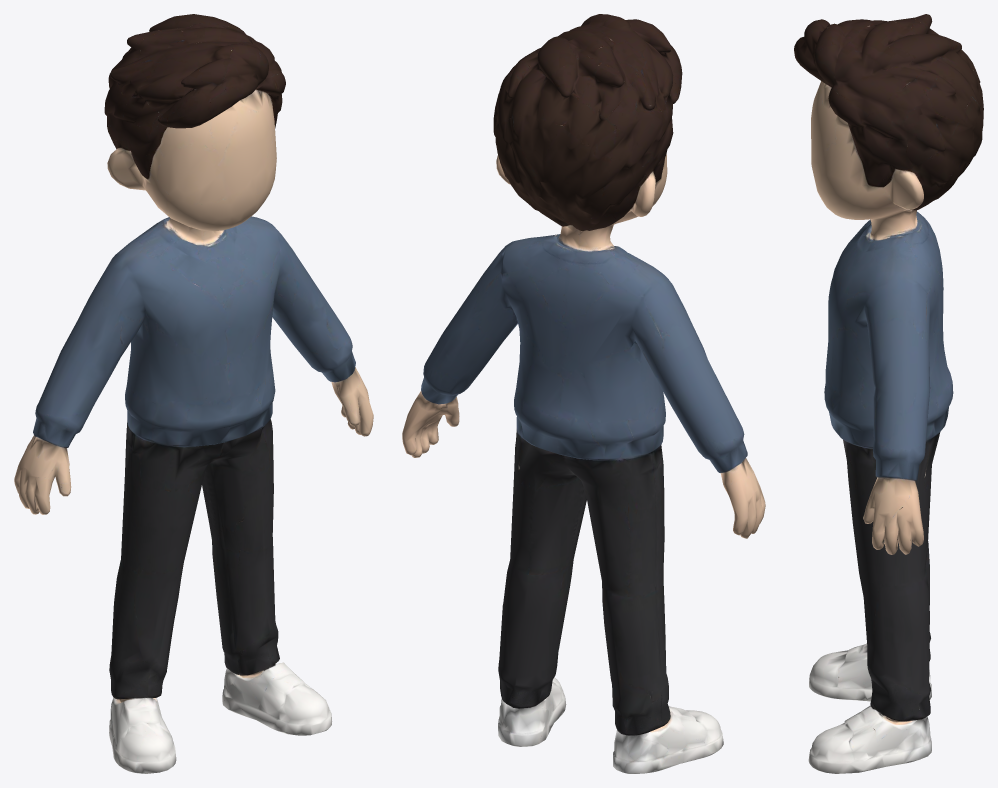
The model's file is male_3d.optimized.glb.
The picture shows the model from 3 angles, left to right: view 1: azimuth 30°, elevation 25°; view 2: azimuth 150°, elevation 25°; view 3: azimuth 270°, elevation 25°; orthographic projection.
Bounding box in the file's own units: 0.9825 × 1.9 × 0.4683.
Materials: 1 (1 with a texture image).
